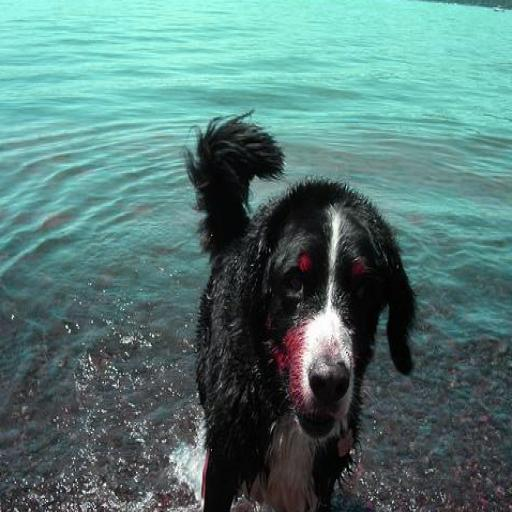dog_face: (236, 184, 439, 422)
